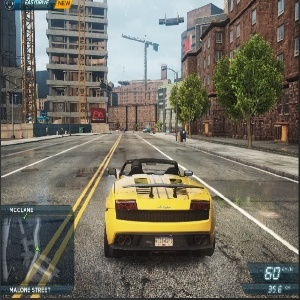ad: (91, 107, 106, 123)
building: (177, 13, 300, 147), (49, 3, 108, 134), (109, 77, 172, 136)
lamp post: (162, 62, 182, 142)
mailbox: (174, 128, 188, 146)
tree: (216, 45, 281, 153), (169, 71, 210, 142)
